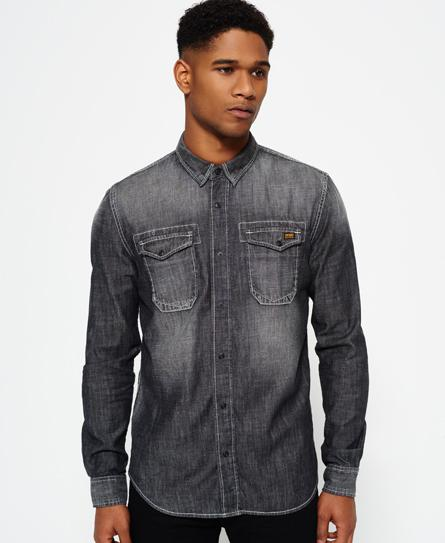teeshirt: (76, 129, 373, 532)
